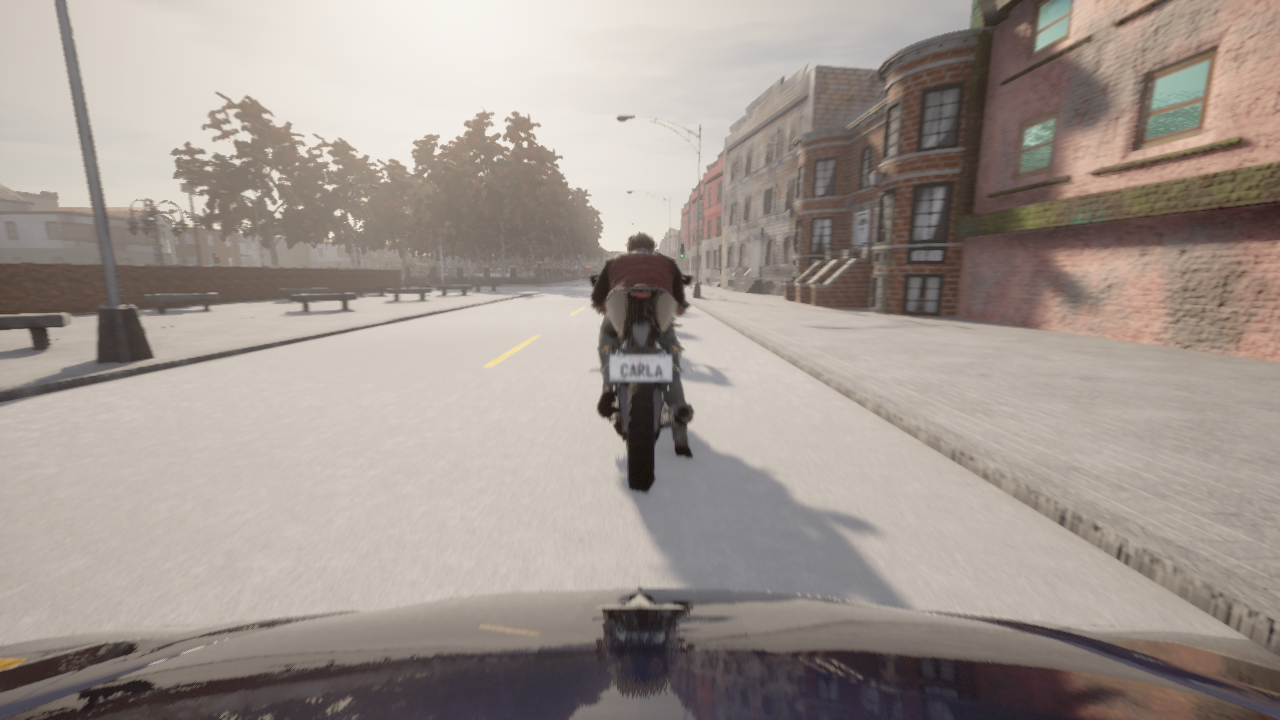cyclist: (0, 588, 1279, 719), (588, 275, 694, 491)
pedestrian: (423, 275, 431, 294), (393, 266, 394, 268)
